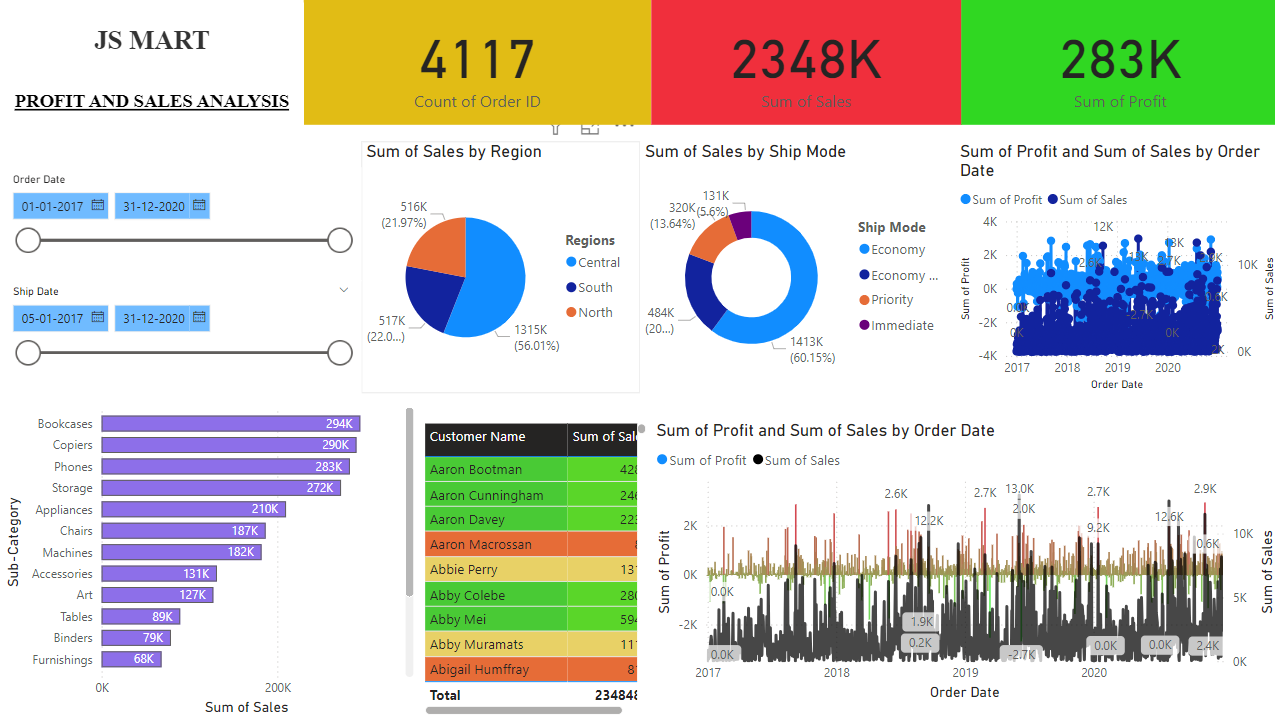

The page's visual inventory and layout, read from the dashboard file:
{"tool":"powerbi","page":{"name":"Page 1","canvas":[1280,720],"ordinal":0},"visuals":[{"type":"clusteredBarChart","fields":{"Category":["Order Breakdown.Sub-Category"],"Y":["Order Breakdown.Sales"]},"box":[0,375,418.8,345],"z":0},{"type":"pieChart","fields":{"Y":["Order Breakdown.Sales"],"Category":["List of Orders.Region"]},"box":[361.6,140.7,277.9,253.5],"z":1000},{"type":"donutChart","fields":{"Y":["Order Breakdown.Sales"],"Category":["List of Orders.Ship Mode"]},"box":[640,141.2,315,253.8],"z":2000},{"type":"tableEx","fields":{"Values":["List of Orders.Customer Name","Order Breakdown.Sales"]},"box":[418.8,418.8,232.5,301.2],"z":3000},{"type":"lineChart","fields":{"Category":["List of Orders.Order Date.Variation.Date Hierarchy.Year"],"Y":["Order Breakdown.Profit"],"Y2":["Order Breakdown.Sales"]},"box":[954.7,140.7,325.6,254.7],"z":4000},{"type":"lineStackedColumnComboChart","fields":{"Category":["List of Orders.Order Date.Variation.Date Hierarchy.Year"],"Y2":["Order Breakdown.Sales"],"Y":["Order Breakdown.Profit"]},"box":[651.2,420,628.8,285],"z":5000},{"type":"card","fields":{"Values":["List of Orders.Order ID"]},"box":[303.8,0,347.5,125],"z":6000},{"type":"card","fields":{"Values":["Order Breakdown.Sales"]},"box":[651.2,0,310,125],"z":7000},{"type":"card","fields":{"Values":["Order Breakdown.Profit"]},"box":[961.2,0,318.8,125],"z":8000},{"type":"slicer","fields":{"Values":["List of Orders.Ship Date"]},"box":[0,280,361.2,115],"z":9000},{"type":"slicer","fields":{"Values":["List of Orders.Order Date"]},"box":[0,167.5,361.2,113.8],"z":10000},{"type":"textbox","box":[0,2.5,303.8,165],"z":11000}]}

Visuals, with their boxes in screenshot pixels (x1, y1, x2, y2), scaled from the page's 1280x720 canvas onto the 1275x719 screenshot:
clusteredBarChart - Order Breakdown.Sub-Category x Order Breakdown.Sales: <region>0, 374, 417, 718</region>
pieChart - Order Breakdown.Sales x List of Orders.Region: <region>360, 141, 637, 394</region>
donutChart - Order Breakdown.Sales x List of Orders.Ship Mode: <region>638, 141, 951, 394</region>
tableEx - List of Orders.Customer Name x Order Breakdown.Sales: <region>417, 418, 649, 718</region>
lineChart - List of Orders.Order Date.Variation.Date Hierarchy.Year x Order Breakdown.Profit: <region>951, 141, 1274, 395</region>
lineStackedColumnComboChart - List of Orders.Order Date.Variation.Date Hierarchy.Year x Order Breakdown.Sales: <region>649, 419, 1274, 704</region>
card - List of Orders.Order ID: <region>303, 0, 649, 125</region>
card - Order Breakdown.Sales: <region>649, 0, 957, 125</region>
card - Order Breakdown.Profit: <region>957, 0, 1274, 125</region>
slicer - List of Orders.Ship Date: <region>0, 280, 360, 394</region>
slicer - List of Orders.Order Date: <region>0, 167, 360, 281</region>
textbox: <region>0, 2, 303, 167</region>
